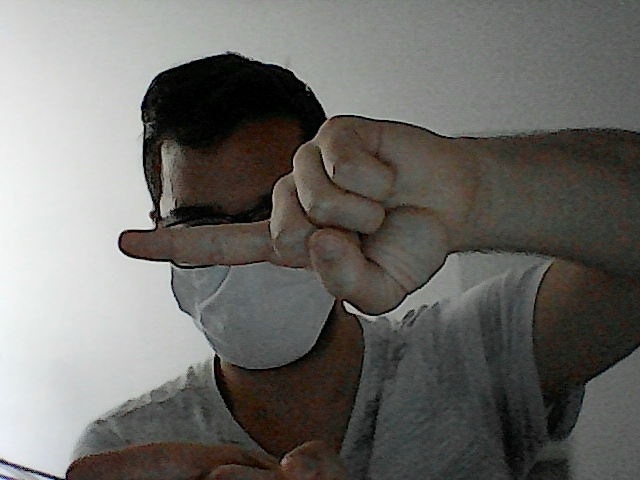right: (106, 109, 453, 324), (56, 424, 366, 480)
